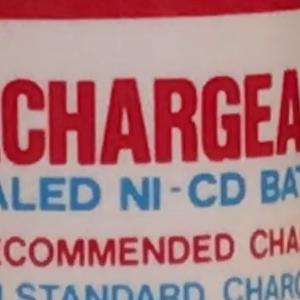NI-CD: (110, 162, 255, 220)
